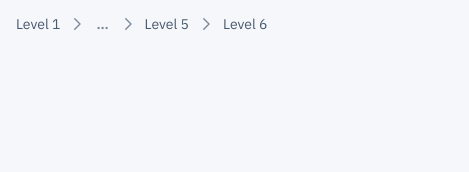
it: Breadcrumb › expands when the fold is tapped
This screenshot has width=469, height=172.
Click the button named "hidden levels" at (102, 24), box [90,12,115,36]
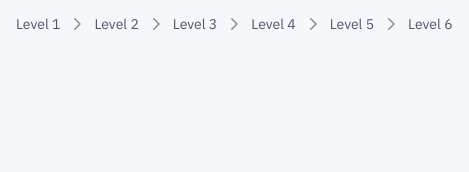
Expected: the button "Level 1" is shown, [12,12,64,36]
Expected: the button "Level 2" is shown, [90,12,143,36]
Expected: the button "Level 3" is shown, [169,12,221,36]
